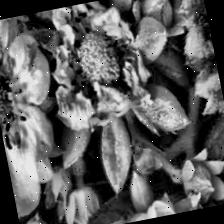Blossom Blight: (58, 5, 145, 111), (0, 41, 36, 153)
